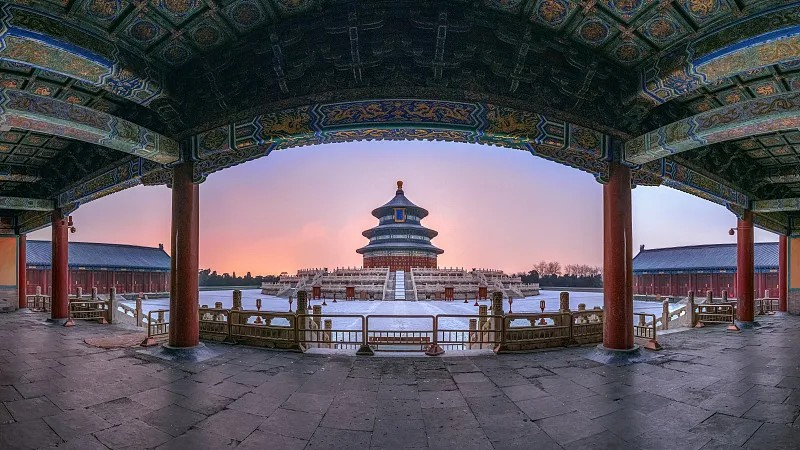Heaven: (355, 180, 444, 270)
